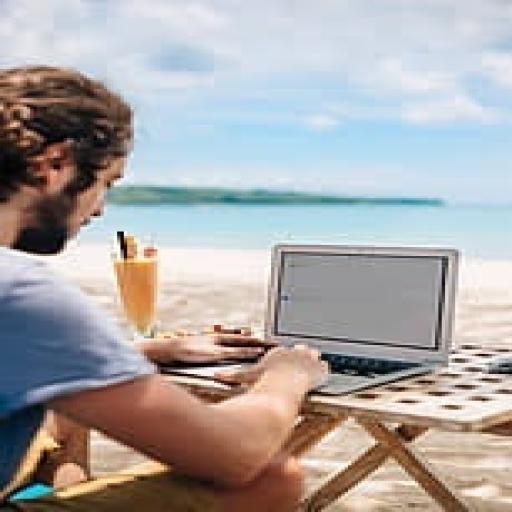using_laptop: (150, 240, 462, 396)
